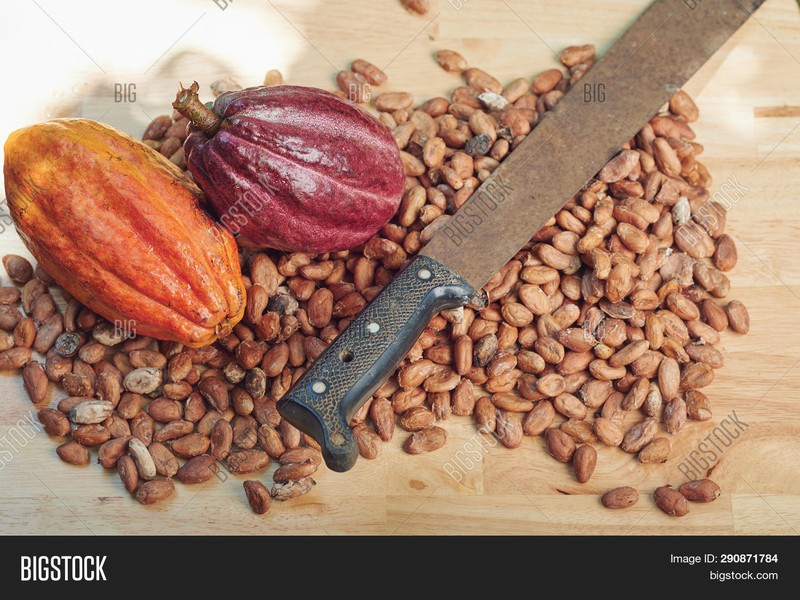Cacaopod: (1, 117, 251, 346)
